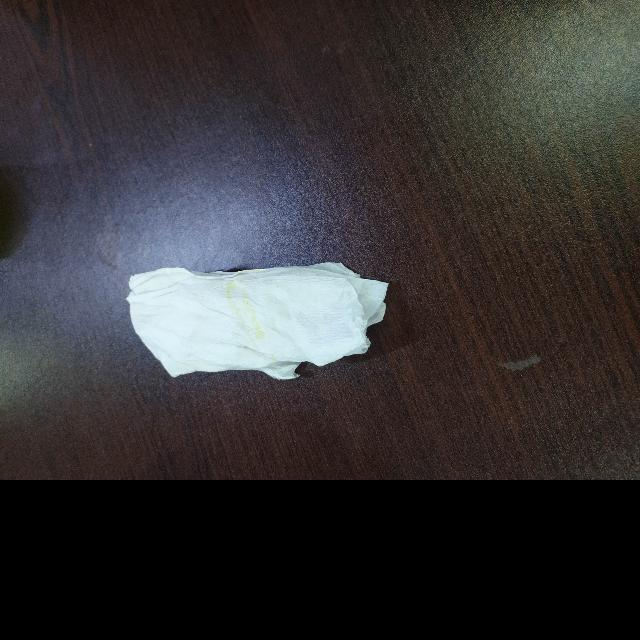kitchen paper: (125, 256, 391, 385)
